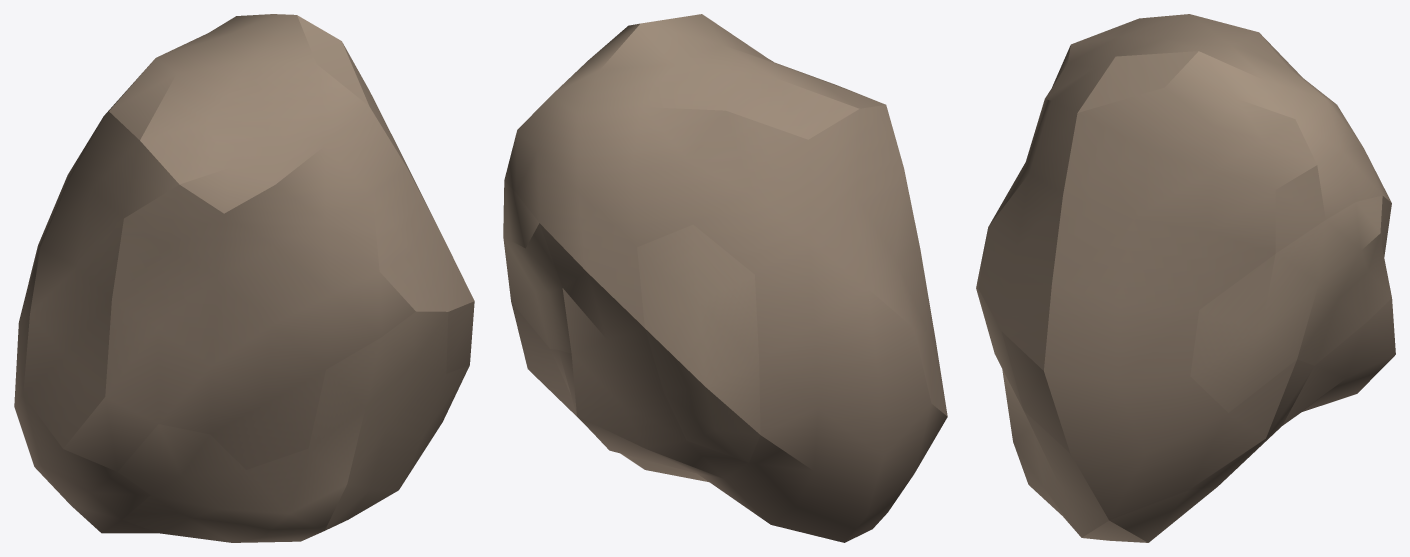
The model's file is Rock_3_P_Color3.fbx.
3 renders of one model, left to right at view 1: azimuth 30°, elevation 25°; view 2: azimuth 150°, elevation 25°; view 3: azimuth 270°, elevation 25°, orthographic. The views are drawn at different scales.
Parts seen in each view (by area): view 1: Rock_3_P_Color3; view 2: Rock_3_P_Color3; view 3: Rock_3_P_Color3.
Part boxes in pixels (<box>): Rock_3_P_Color3: <box>14,14,474,542</box>; Rock_3_P_Color3: <box>503,14,947,542</box>; Rock_3_P_Color3: <box>976,14,1395,542</box>.
Size of the model in its own units: 3.29 by 3.68 by 2.87.
